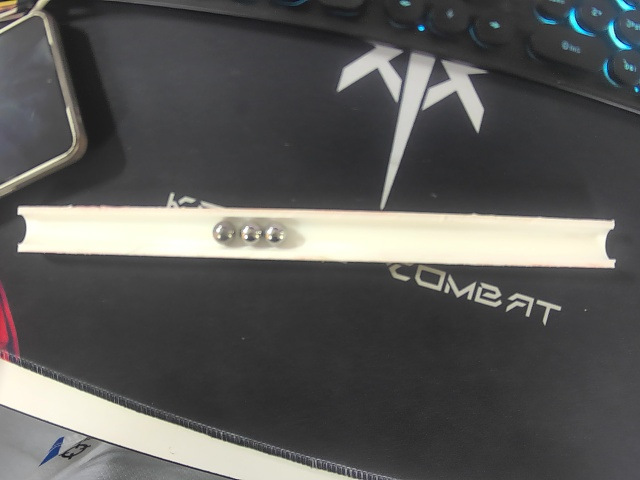steelball: (212, 220, 237, 245), (240, 222, 264, 244), (265, 222, 287, 246)
